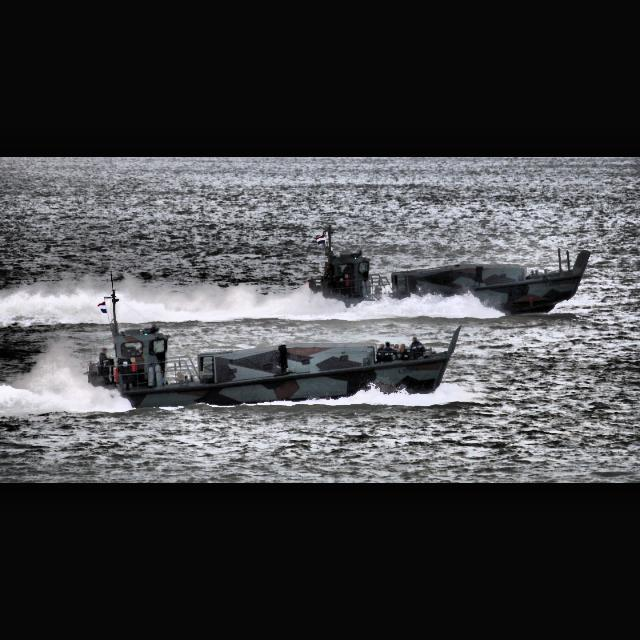combat_vessel: (87, 272, 463, 412), (306, 222, 592, 318)
